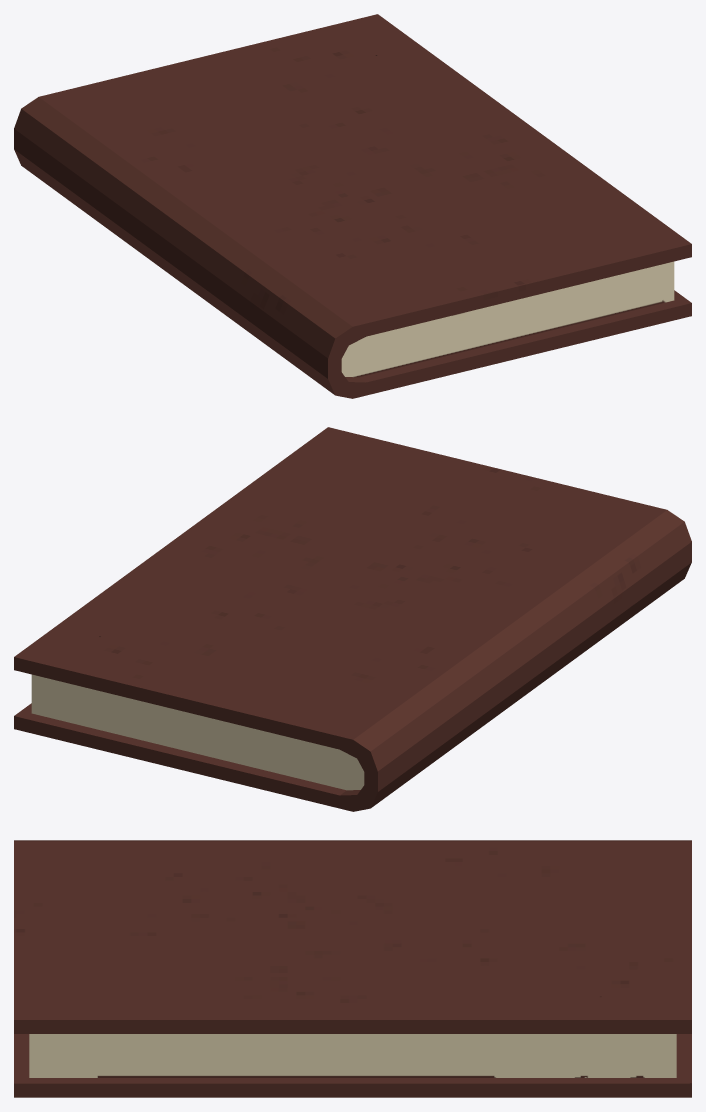
The model's file is Book.fbx.
The picture shows the model from 3 angles, top to bottom: view 1: azimuth 30°, elevation 25°; view 2: azimuth 150°, elevation 25°; view 3: azimuth 270°, elevation 25°; orthographic projection. The views are drawn at different scales.
Visible parts, largest first — view 1: Book; view 2: Book; view 3: Book.
Part boxes in pixels (left/top/right/bottom): Book: left=14, top=14, right=691, bottom=398; Book: left=14, top=427, right=691, bottom=811; Book: left=14, top=840, right=691, bottom=1097.
Size of the model in its own units: 38.4 by 7.27 by 57.42.
1 material, 1 textured.
